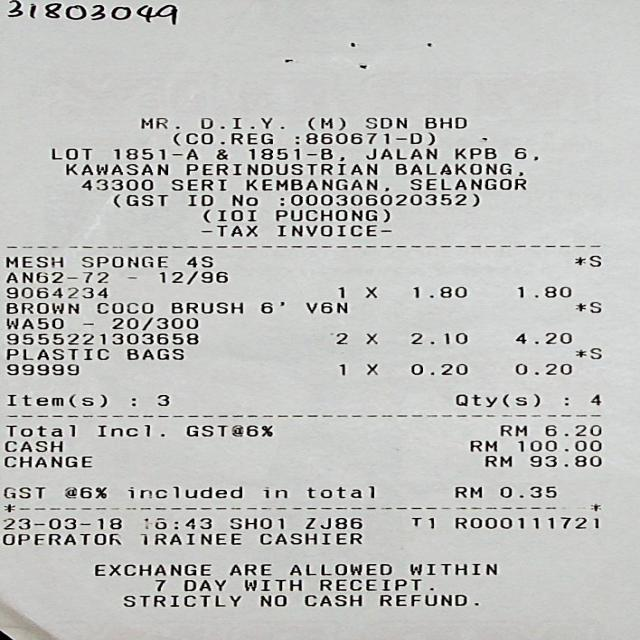text: (278, 193, 478, 206), (5, 332, 197, 344), (185, 163, 375, 175), (244, 178, 387, 191), (294, 132, 433, 145), (393, 163, 522, 176), (276, 208, 388, 222), (454, 517, 596, 528), (92, 563, 210, 576), (125, 485, 240, 498), (1, 517, 120, 529), (121, 594, 240, 606), (1, 533, 119, 545), (274, 224, 390, 236), (6, 393, 105, 407), (409, 178, 524, 190), (319, 578, 432, 590), (4, 347, 108, 360), (173, 132, 271, 145), (3, 271, 106, 283), (64, 163, 166, 175), (288, 563, 390, 575), (248, 148, 342, 161), (110, 316, 196, 330), (454, 393, 538, 407), (379, 594, 476, 606), (258, 533, 360, 544), (138, 533, 240, 544), (80, 255, 166, 268), (6, 287, 106, 298), (112, 147, 196, 160), (408, 562, 495, 574), (516, 439, 600, 451), (3, 456, 90, 467), (158, 270, 226, 284), (186, 425, 271, 436), (200, 117, 282, 128), (4, 424, 73, 437), (304, 485, 372, 498), (4, 302, 77, 314), (169, 301, 241, 313), (80, 178, 151, 190), (6, 363, 77, 375), (142, 517, 210, 529), (96, 424, 162, 436), (364, 148, 435, 159), (528, 455, 599, 466), (112, 193, 166, 207), (408, 331, 466, 344), (125, 347, 182, 360), (514, 331, 570, 344), (4, 317, 62, 329), (303, 517, 361, 529), (242, 578, 300, 590), (95, 301, 152, 313), (4, 440, 61, 452), (303, 594, 360, 606), (202, 209, 254, 222), (413, 285, 465, 298), (169, 178, 225, 190), (200, 224, 256, 236), (544, 424, 600, 436), (500, 485, 555, 497), (516, 285, 570, 297), (4, 256, 62, 267), (408, 363, 466, 374), (230, 517, 282, 529), (514, 363, 570, 374), (62, 486, 105, 498), (51, 147, 90, 160), (307, 116, 343, 130), (334, 332, 376, 344), (1, 486, 43, 498), (182, 579, 224, 591), (228, 563, 269, 575), (454, 147, 494, 159), (305, 301, 345, 313), (337, 363, 376, 375), (423, 117, 465, 128), (337, 286, 375, 298), (364, 117, 405, 128), (140, 117, 178, 128), (483, 454, 510, 467), (573, 347, 600, 359), (186, 194, 212, 206), (230, 194, 256, 206), (573, 254, 599, 266), (186, 255, 212, 267), (454, 486, 480, 498), (259, 594, 285, 606), (258, 301, 283, 313), (500, 424, 525, 436), (262, 486, 286, 498), (514, 147, 536, 160), (470, 440, 496, 451), (573, 302, 599, 312), (558, 391, 572, 409), (410, 517, 432, 528), (156, 394, 168, 406), (214, 148, 226, 159), (154, 579, 164, 591), (590, 394, 600, 405), (129, 398, 134, 406), (81, 322, 92, 325), (126, 276, 134, 278)
